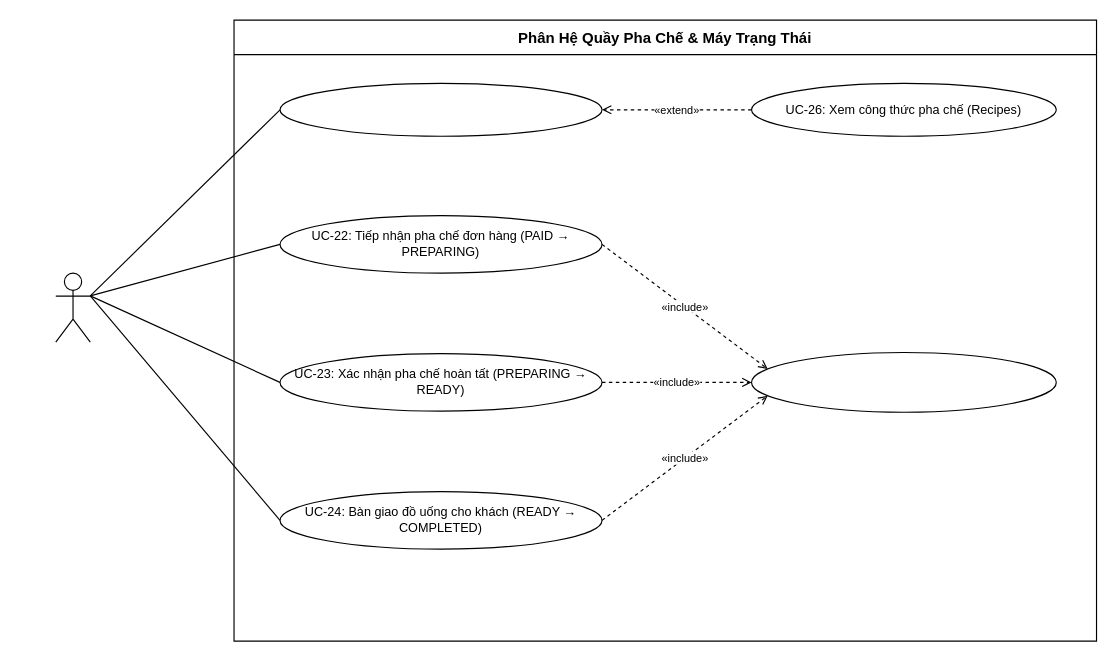
This 1117x661 diagram has some shape labels left out. Each missing label, with the box of its shape:
Ghi vết kiểm toán trạng thái (OrderStatusHistory): (750, 351, 1056, 412)
Nhân viên pha chế (Barista): (55, 272, 90, 342)
UC-25: Xem bảng Kanban pha chế (FIFO): (279, 82, 602, 136)
